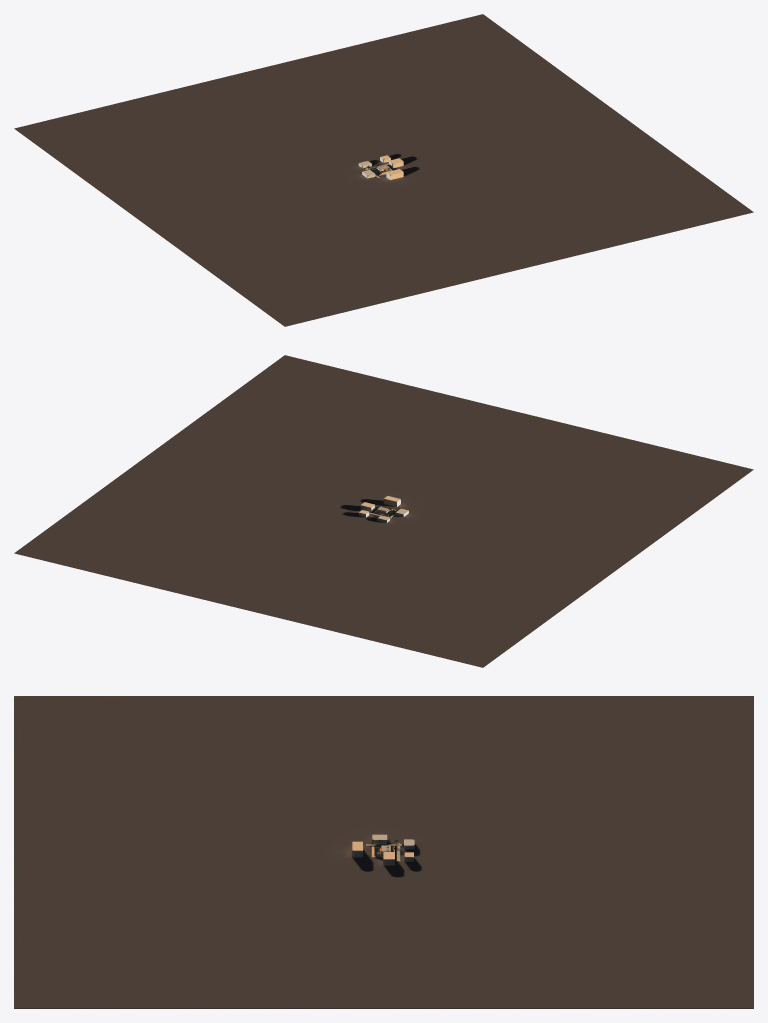
Rendered from courtyard-studio-los-angeles.late-afternoon.glb.
3 views of the same model, one above another, from view 1: azimuth 30°, elevation 25°; view 2: azimuth 150°, elevation 25°; view 3: azimuth 270°, elevation 25° (orthographic). The views are drawn at different scales.
Parts seen in each view (by area): view 1: Street and neighbours; view 2: Street and neighbours; view 3: Street and neighbours.
Part boxes in pixels (box(x1,y1,x2,y2)): Street and neighbours: box(14, 14, 753, 326); Street and neighbours: box(14, 355, 753, 667); Street and neighbours: box(14, 696, 753, 1008).
Size of the model in its own units: 700 by 7.59 by 700.
12 materials, 9 textured.
